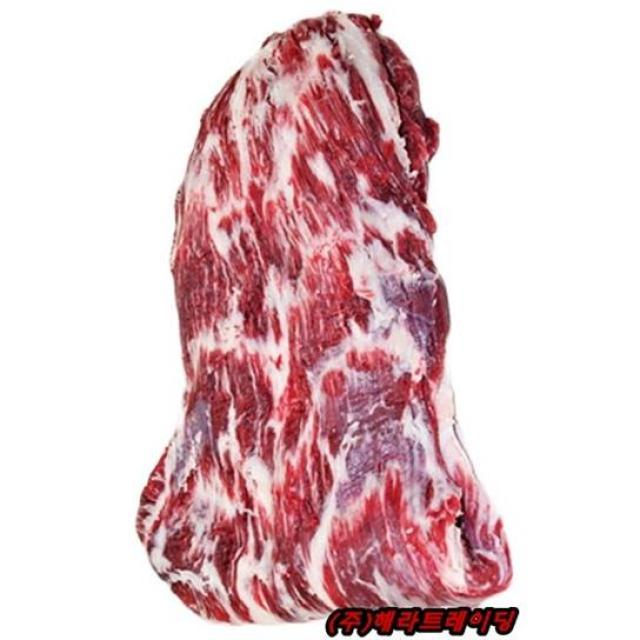beef: (178, 76, 437, 560)
